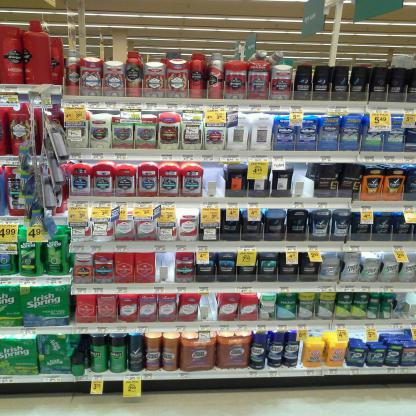Void: (201, 165, 221, 195), (157, 252, 175, 281), (293, 166, 306, 197), (397, 295, 412, 319), (203, 298, 213, 319)
